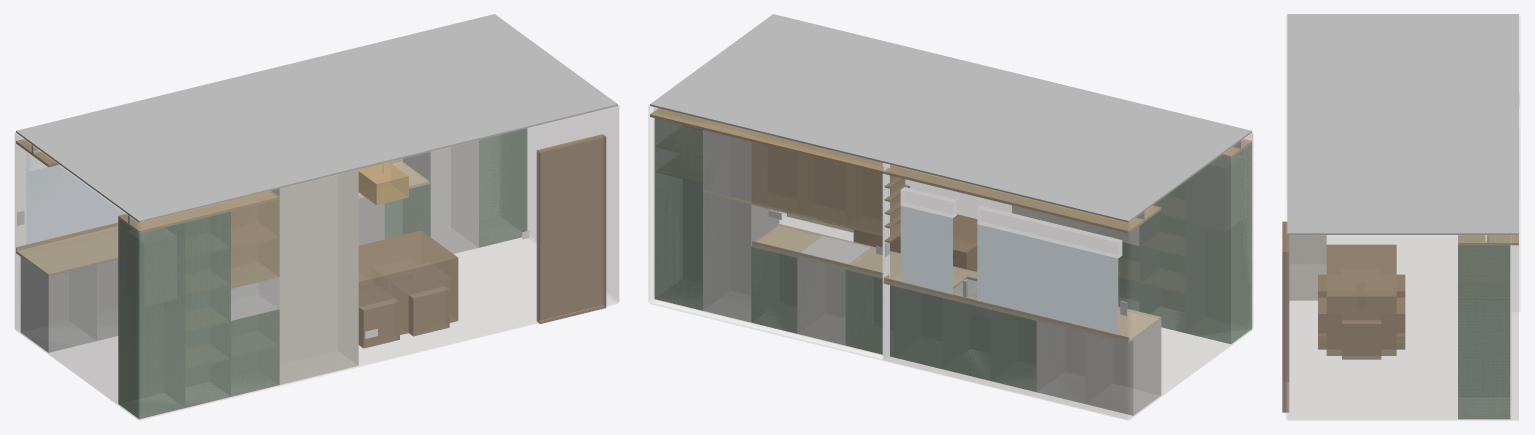
The model's file is cocina.obj.
The picture shows the model from 3 angles, left to right: view 1: azimuth 30°, elevation 25°; view 2: azimuth 150°, elevation 25°; view 3: azimuth 270°, elevation 25°; orthographic projection. The views are drawn at different scales.
Parts seen in each view (by area): view 1: Pared Sur, Techo, Pared Oeste, Columna azulejo, Caldera, Puerta, Suelo, Despensa Sur, Mesa comedor, Lavadora, Frigorífico, Escobero (+14 smaller); view 2: Techo, Pared Norte izq, Pared Norte der, Pared Oeste, Caldera, Ventana grande, Frigorífico, Escobero, Cajones, Suelo, Cornisa Norte, Lavadora (+23 smaller); view 3: Techo, Pared Este, Suelo, Escobero, Mesa comedor, Columna azulejo, Silla 6, Puerta, Cornisa Norte, Pared Norte izq, Silla 4, Silla 2 (+3 smaller).
Boxes of the visible parts, left/top/right/bottom form: Pared Sur: left=139, top=106, right=618, bottom=419; Techo: left=16, top=14, right=617, bottom=222; Pared Oeste: left=14, top=133, right=138, bottom=419; Columna azulejo: left=271, top=169, right=358, bottom=384; Caldera: left=118, top=218, right=185, bottom=419; Puerta: left=536, top=134, right=606, bottom=323; Suelo: left=16, top=238, right=617, bottom=420; Despensa Sur: left=185, top=211, right=230, bottom=407; Mesa comedor: left=358, top=230, right=458, bottom=344; Lavadora: left=20, top=257, right=96, bottom=352; Frigorífico: left=402, top=140, right=478, bottom=253; Escobero: left=479, top=128, right=527, bottom=247; Techo: left=650, top=14, right=1251, bottom=222; Pared Norte izq: left=883, top=163, right=1128, bottom=419; Pared Norte der: left=654, top=107, right=882, bottom=355; Pared Oeste: left=1129, top=133, right=1253, bottom=419; Caldera: left=1185, top=144, right=1251, bottom=343; Ventana grande: left=977, top=224, right=1117, bottom=334; Frigorífico: left=703, top=130, right=779, bottom=322; Escobero: left=654, top=118, right=702, bottom=310; Cajones: left=845, top=270, right=942, bottom=368; Suelo: left=650, top=215, right=1251, bottom=420; Cornisa Norte: left=650, top=108, right=1161, bottom=233; Lavadora: left=1085, top=320, right=1161, bottom=415; Techo: left=1287, top=14, right=1518, bottom=234; Pared Este: left=1287, top=235, right=1518, bottom=419; Suelo: left=1287, top=235, right=1518, bottom=420; Escobero: left=1458, top=245, right=1510, bottom=419; Mesa comedor: left=1326, top=244, right=1396, bottom=355; Columna azulejo: left=1289, top=235, right=1326, bottom=300; Silla 6: left=1342, top=320, right=1381, bottom=359; Puerta: left=1282, top=221, right=1289, bottom=412; Cornisa Norte: left=1458, top=235, right=1518, bottom=245; Pared Norte izq: left=1519, top=16, right=1520, bottom=311; Silla 4: left=1396, top=297, right=1405, bottom=349; Silla 2: left=1318, top=297, right=1326, bottom=349.
Bounding box in the file's own units: 5.98 × 2.37 × 2.73.
